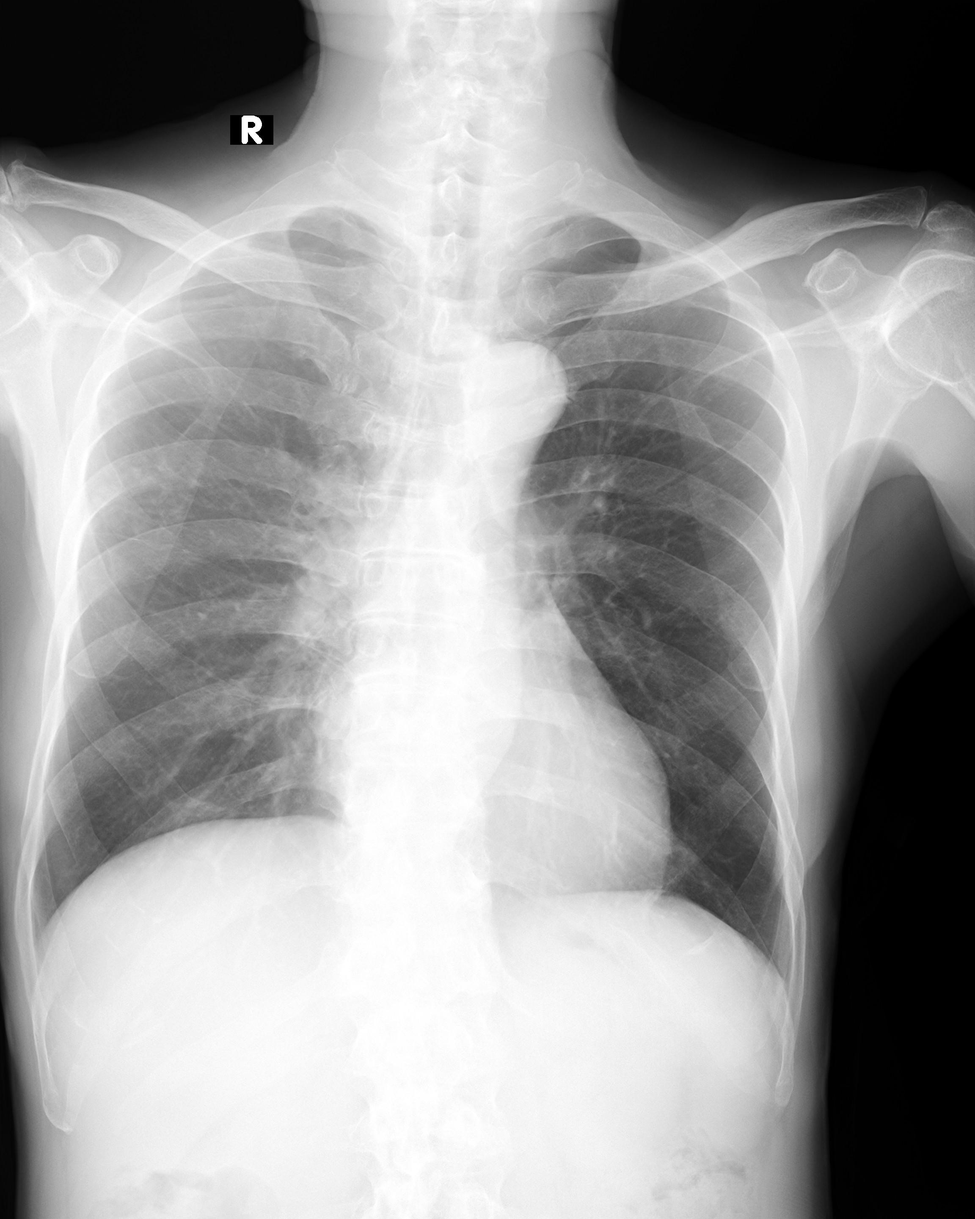Pulmonary fibrosis: (123, 429, 203, 525)
